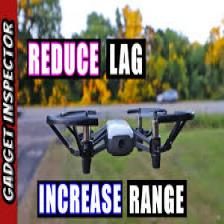drone: (47, 106, 193, 168)
